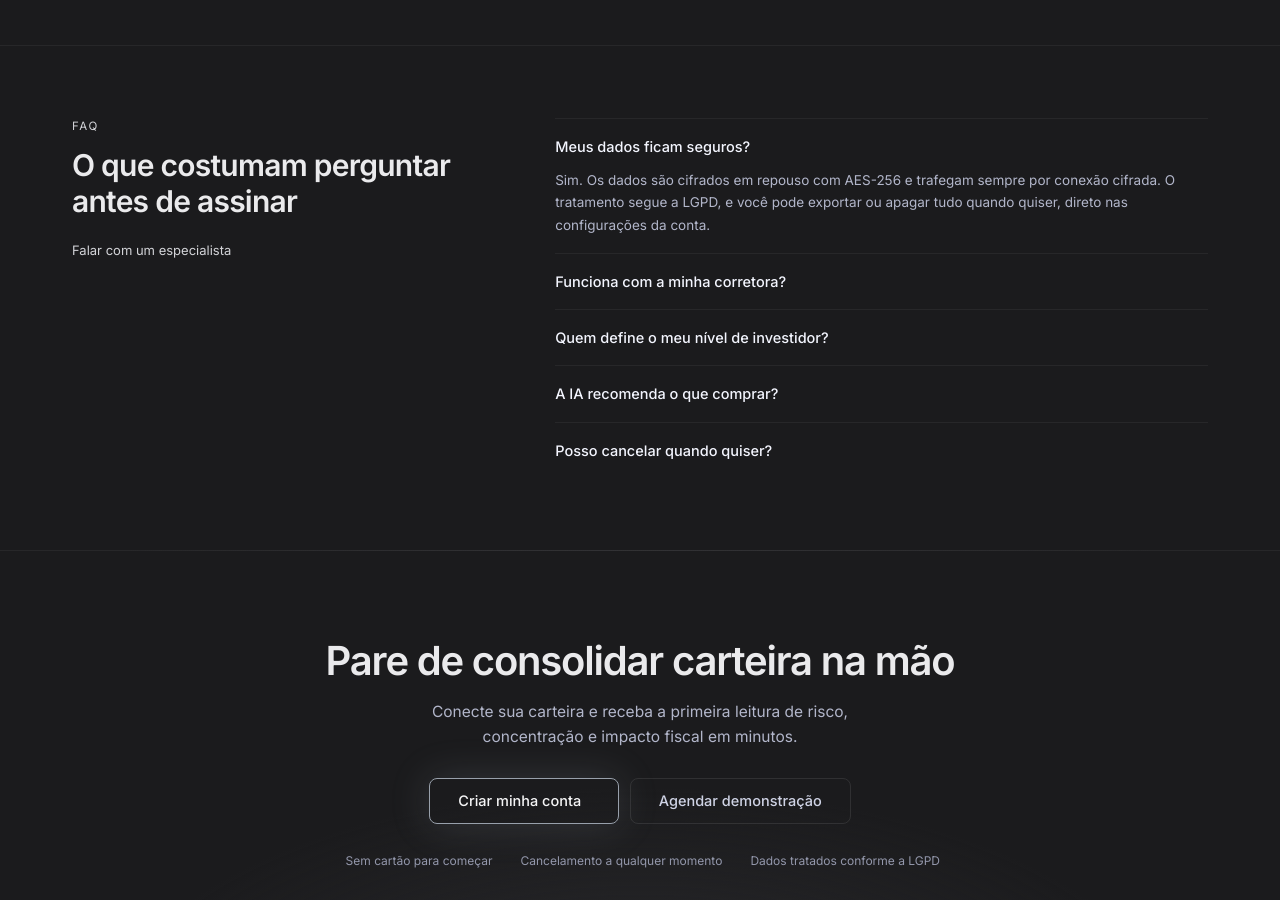
Test: Landing (design_handoff_trackerr/Trackerr Landing.dc.html) › keeps one FAQ answer open at a time
(page scrolled)
Check: the text "cifrados em repouso com AES-256" is shown, box [555,172,1175,233]
Click the button "Posso cancelar quando quiser?" at (664, 450), box [555,440,1208,461]
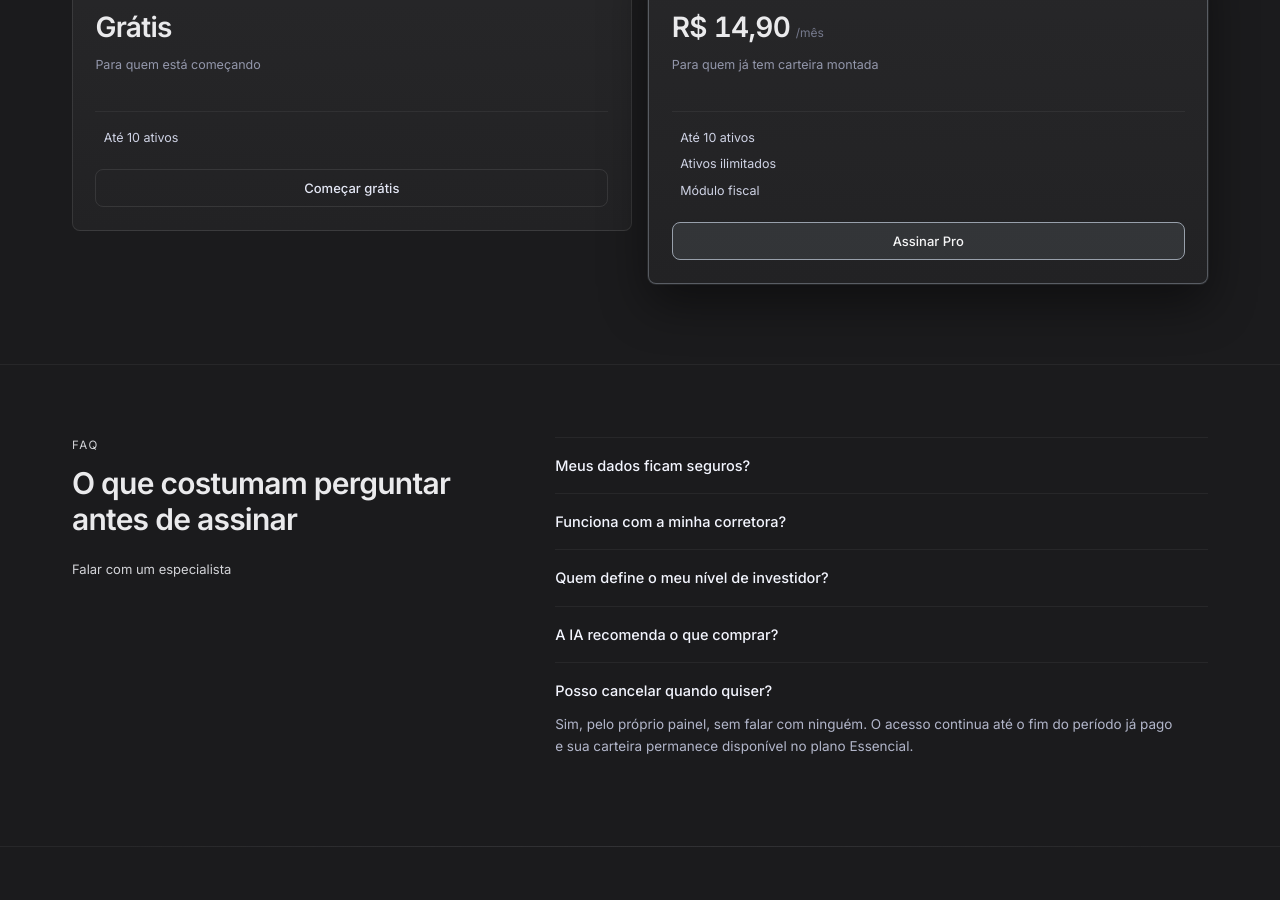
Check: the text "pelo próprio painel, sem falar com ninguém" is shown, box [555,716,1172,754]
Check: the text "cifrados em repouso com AES-256" is gone
